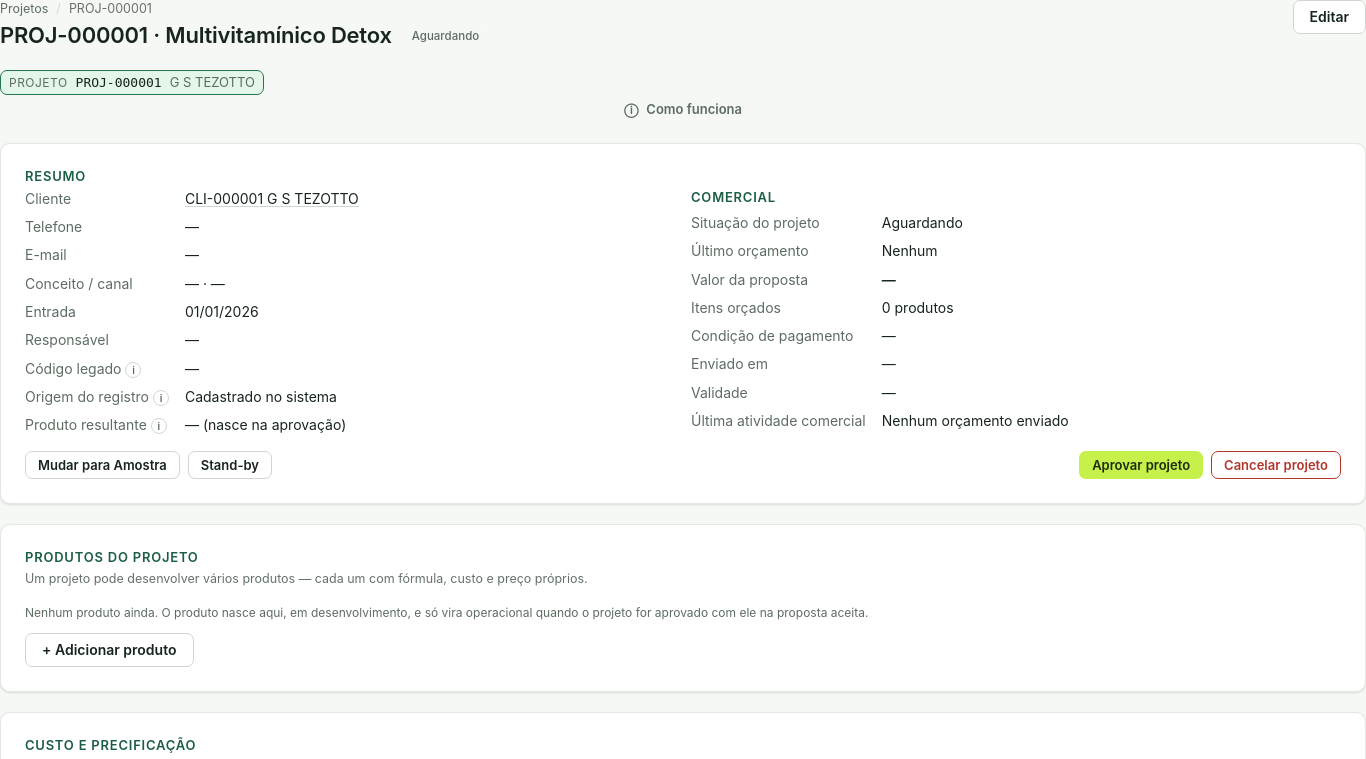
Test: Resumo do Projeto — quatro ações, dois assuntos › cancelar continua perguntando antes — o layout não virou atalho
expect the button "Aprovar projeto" is shown: met, box top-left (1079, 451), bottom-right (1203, 479)
Click the button "Cancelar projeto".
click(1276, 465)  # box top-left (1211, 451), bottom-right (1341, 479)
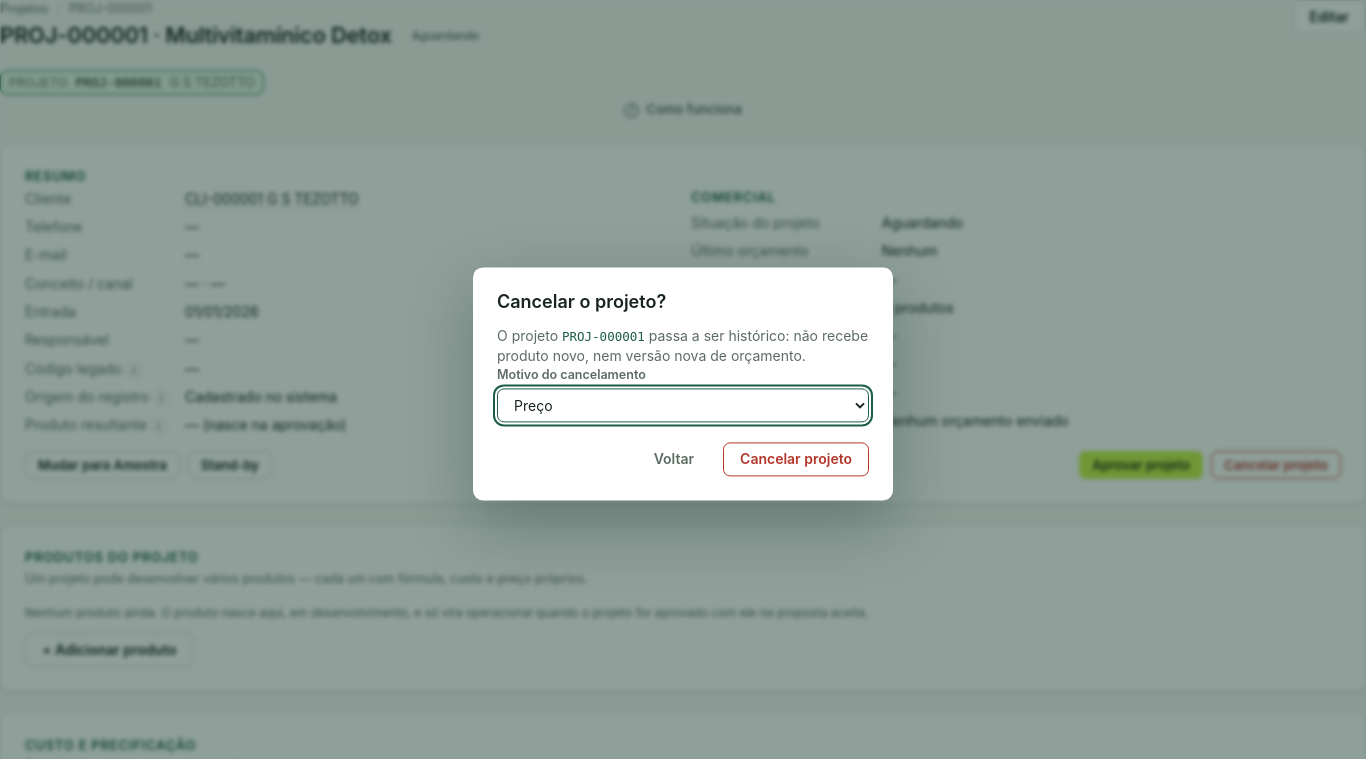
expect the heading "Cancelar o projeto?" is shown: met, box top-left (497, 291), bottom-right (666, 312)
